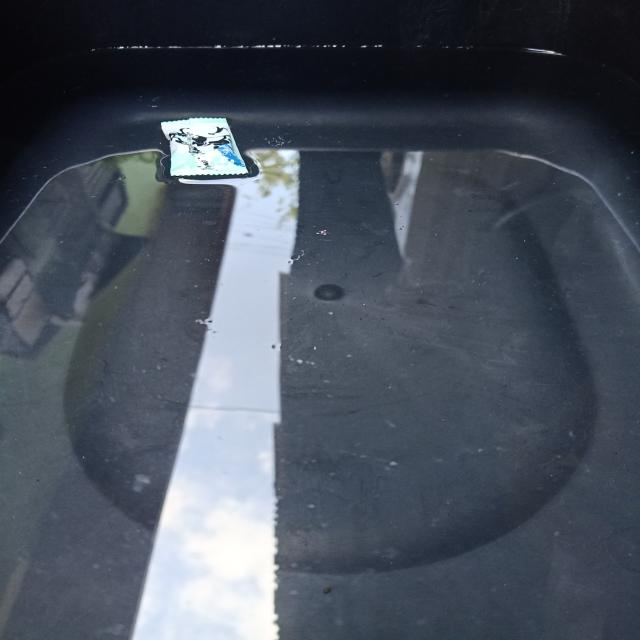Plastic Wrapper: (48, 48, 383, 170), (86, 116, 296, 225)
